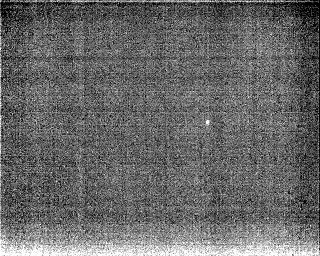BIRD: (203, 117, 212, 128)
